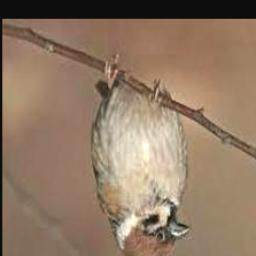Sparrow: (92, 55, 192, 256)
